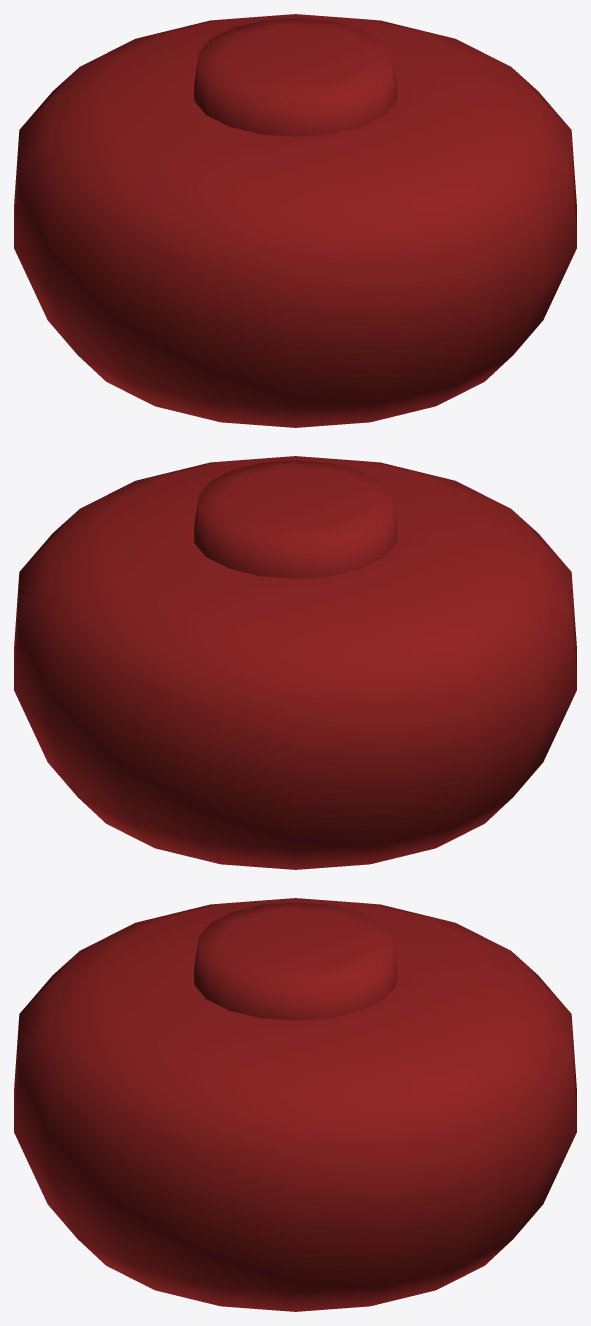
Rendered from Kitchen_PickleContainer.FBX.
3 renders of one model, top to bottom at view 1: azimuth 30°, elevation 25°; view 2: azimuth 150°, elevation 25°; view 3: azimuth 270°, elevation 25°, orthographic.
Visible parts, largest first — view 1: Kitchen_pickle_container; view 2: Kitchen_pickle_container; view 3: Kitchen_pickle_container.
Part boxes in pixels (x1,y1,x2,y2): Kitchen_pickle_container: (14, 14, 576, 427); Kitchen_pickle_container: (14, 456, 576, 869); Kitchen_pickle_container: (14, 898, 576, 1311).
Size of the model in its own units: 0.1367 by 0.0746 by 0.1347.
